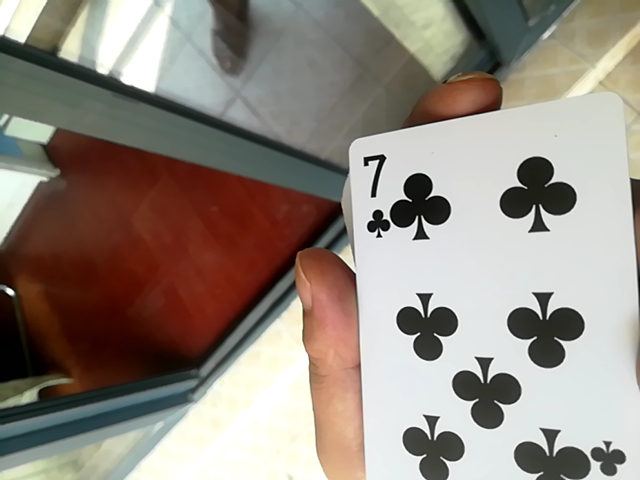mh 7: (331, 73, 640, 480)
